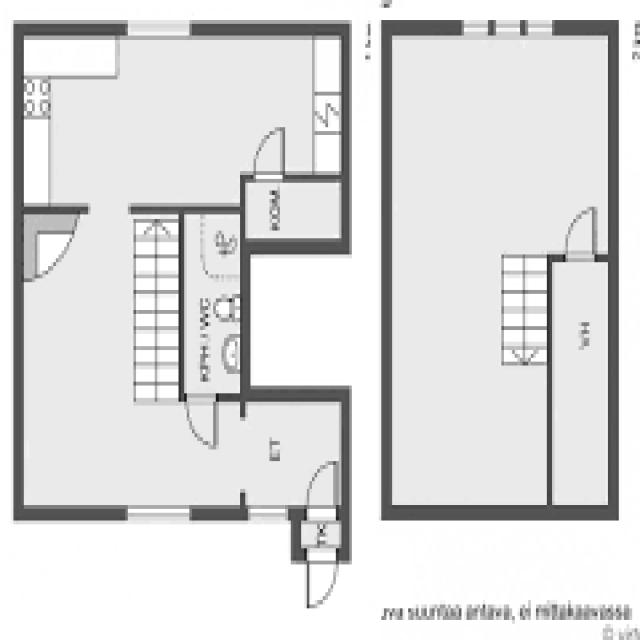door: (181, 390, 220, 454), (305, 554, 337, 612), (256, 125, 288, 182), (306, 462, 339, 515), (567, 208, 598, 262)
window: (460, 18, 558, 36), (122, 16, 196, 36), (125, 506, 191, 521), (246, 504, 290, 519)
zone: (388, 32, 549, 511), (21, 31, 341, 203), (14, 206, 185, 515), (551, 252, 611, 509), (183, 204, 241, 399), (245, 180, 342, 238)
